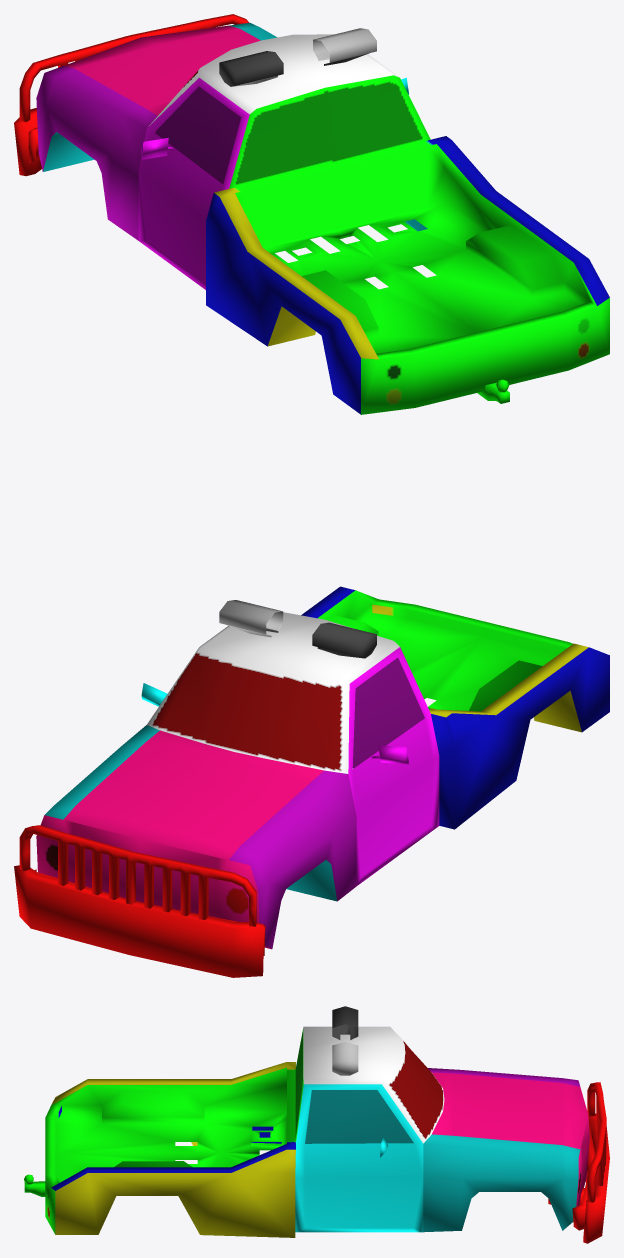
The model's file is Vehicles_Chevalier_Rhino.fbx.
3 views of the same model, one above another, from view 1: azimuth 30°, elevation 25°; view 2: azimuth 150°, elevation 25°; view 3: azimuth 270°, elevation 25° (orthographic). The views are drawn at different scales.
Parts seen in each view (by area): view 1: Cube; view 2: Cube; view 3: Cube.
Boxes of the visible parts, <box> form: Cube: <box>14,14,609,414</box>; Cube: <box>14,586,609,977</box>; Cube: <box>24,1006,609,1243</box>.
Bounding box in the file's own units: 2.48 × 2.19 × 6.2.
